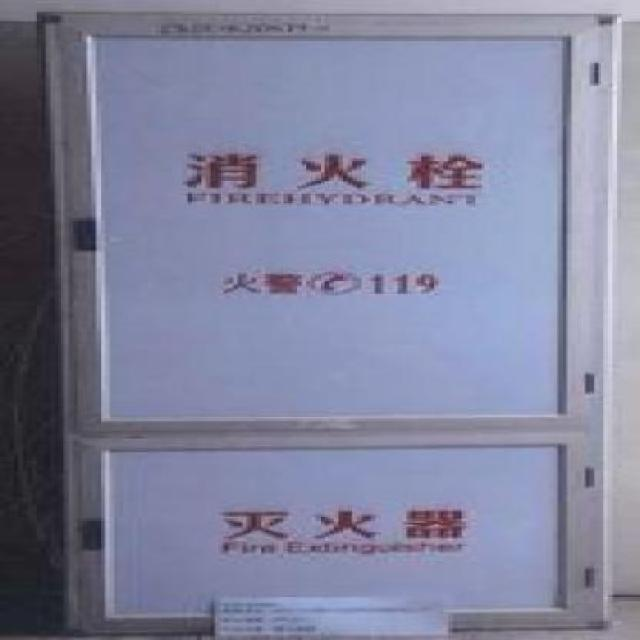firehydrant: (22, 0, 628, 640)
